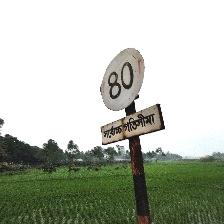Speed-limit: (99, 46, 164, 146)
